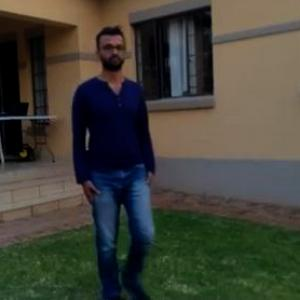follow: (80, 45, 153, 274)
